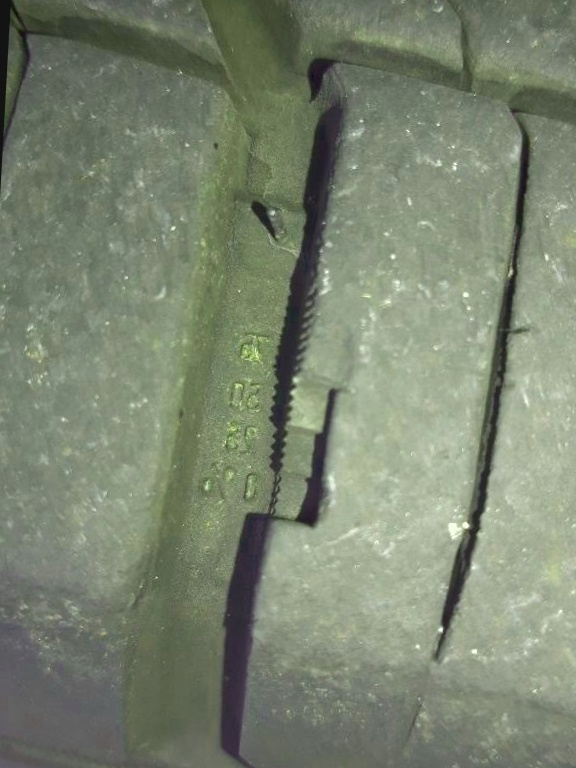temoin:80: (254, 276, 366, 551)
